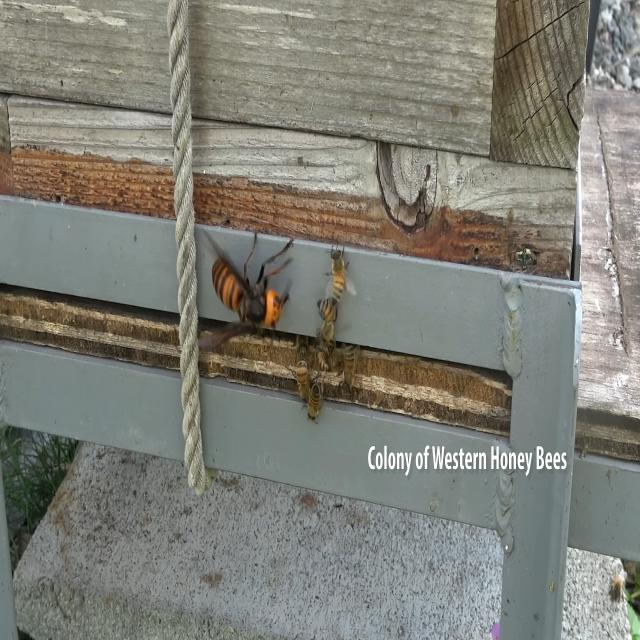Bees: (324, 234, 356, 305), (337, 339, 361, 404), (302, 371, 323, 426), (316, 297, 338, 346)
Hornets: (197, 227, 296, 351)
